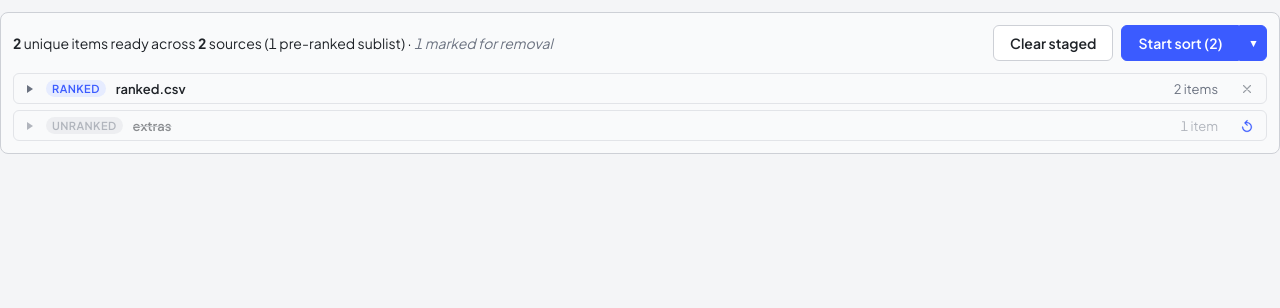
StagedItemsPanel · Start Sort split-button › offers confirmation when extra groups are marked for removal
What coordinates should you click on to do the following:
click the button with class "staged-panel-start-caret"
I would click on:
 (1253, 43)
Its box is x1=1240 y1=25 x2=1267 y2=61.
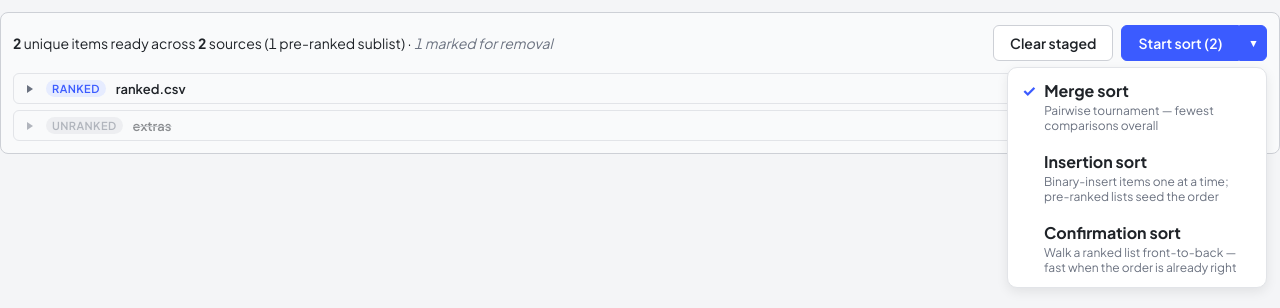
Expected: the menu item with class "staged-panel-start-menu-item" shows "Confirmation sort", x1=1012 y1=214 x2=1262 y2=283
